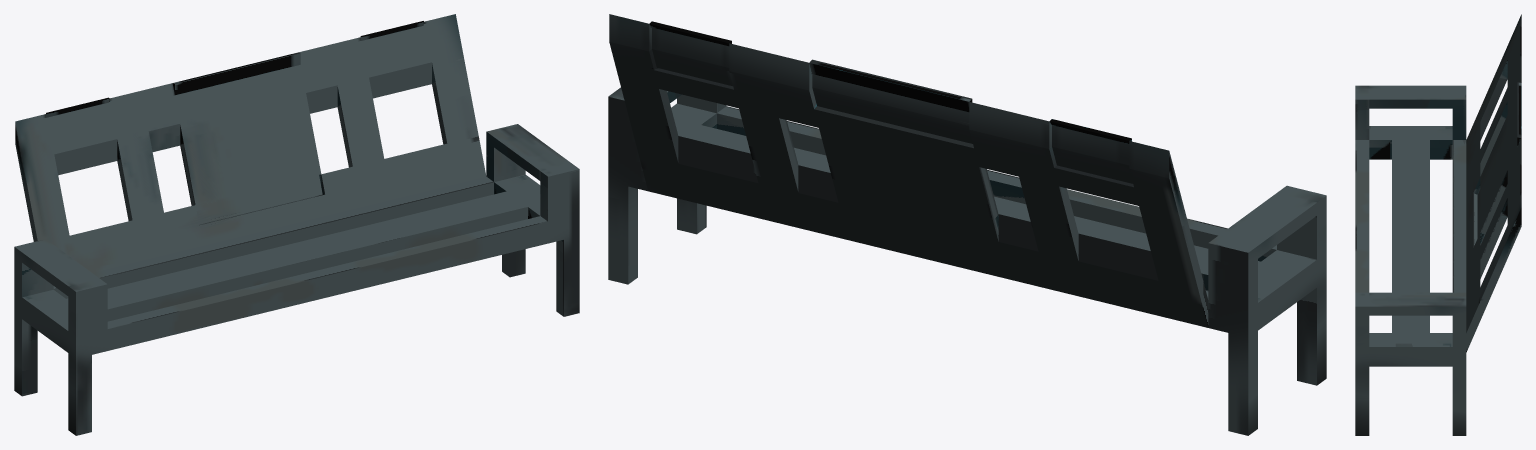
Rendered from Bench.fbx.
3 views of the same model, side by side, from view 1: azimuth 30°, elevation 25°; view 2: azimuth 150°, elevation 25°; view 3: azimuth 270°, elevation 25° (orthographic). The views are drawn at different scales.
Visible parts, largest first — view 1: Cube; view 2: Cube; view 3: Cube.
Boxes of the visible parts, <box> form: Cube: <box>14,14,579,435</box>; Cube: <box>608,14,1326,435</box>; Cube: <box>1355,14,1521,435</box>.
Size of the model in its own units: 983 by 449 by 312.
Materials: 1 (1 with a texture image).
